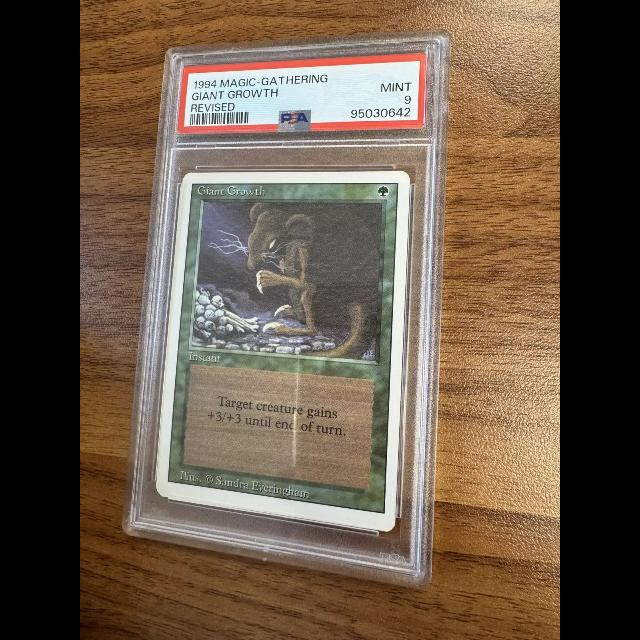card: (153, 170, 412, 535)
psa_label: (175, 51, 428, 135)
psa_slab: (120, 29, 452, 593)
